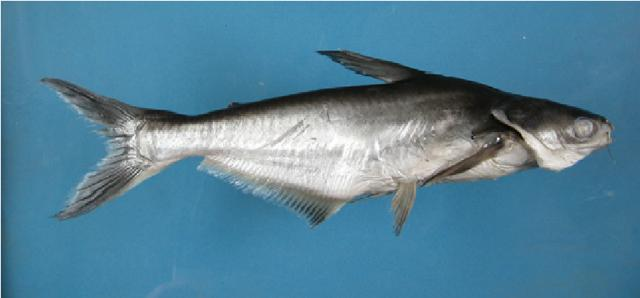Mulut: (581, 112, 623, 158)
Sirip Anal: (196, 140, 362, 238)
Sirip Dada: (418, 134, 514, 190)
Sirip Ekor: (32, 58, 168, 228)
Sirip Perut: (388, 171, 422, 238)
Sirip Punggung: (310, 35, 430, 98)
